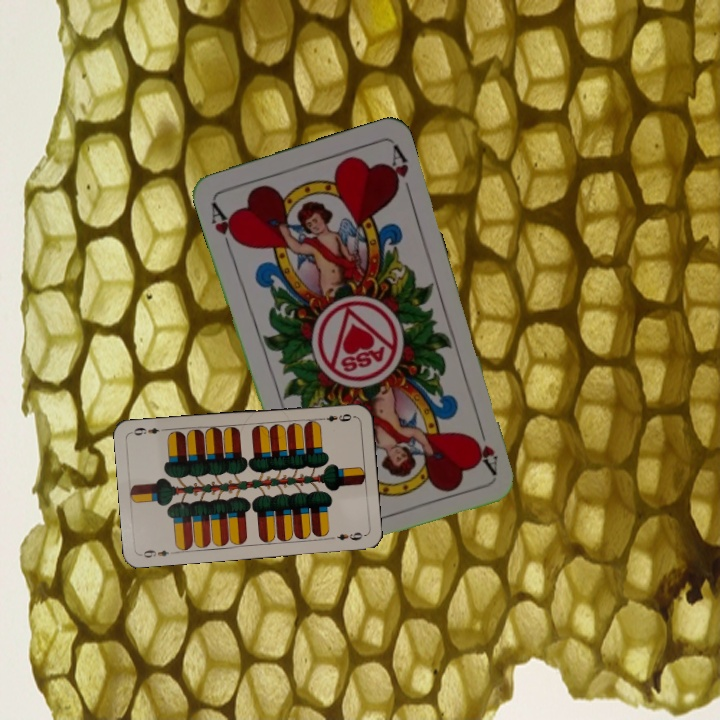E9: (316, 410, 357, 424), (138, 546, 178, 560)
HA: (466, 418, 500, 476), (207, 198, 242, 253)
